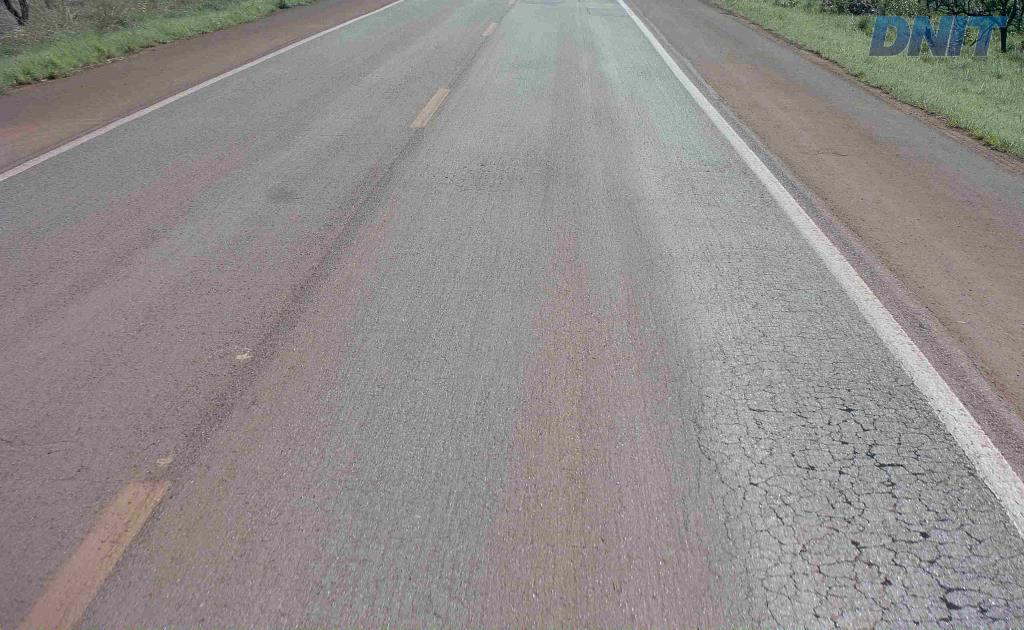crack: (871, 459, 947, 514), (929, 578, 1023, 620)
